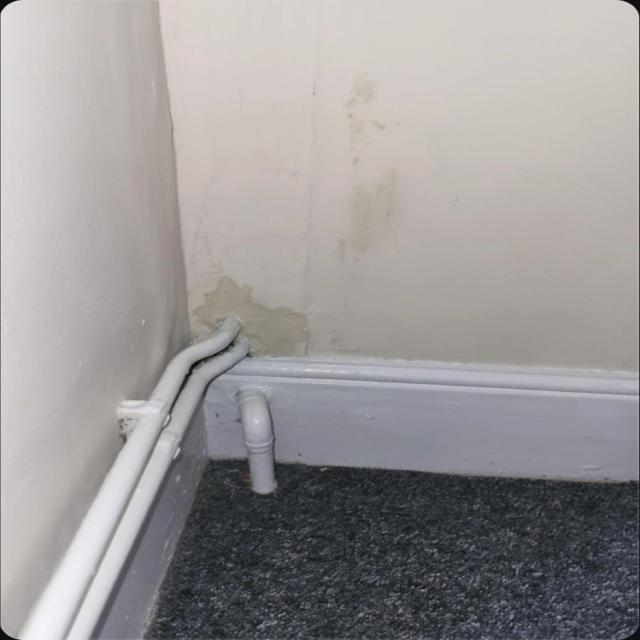pipe: (224, 385, 300, 503)
wall_leaking: (8, 284, 161, 633), (189, 268, 327, 377)
